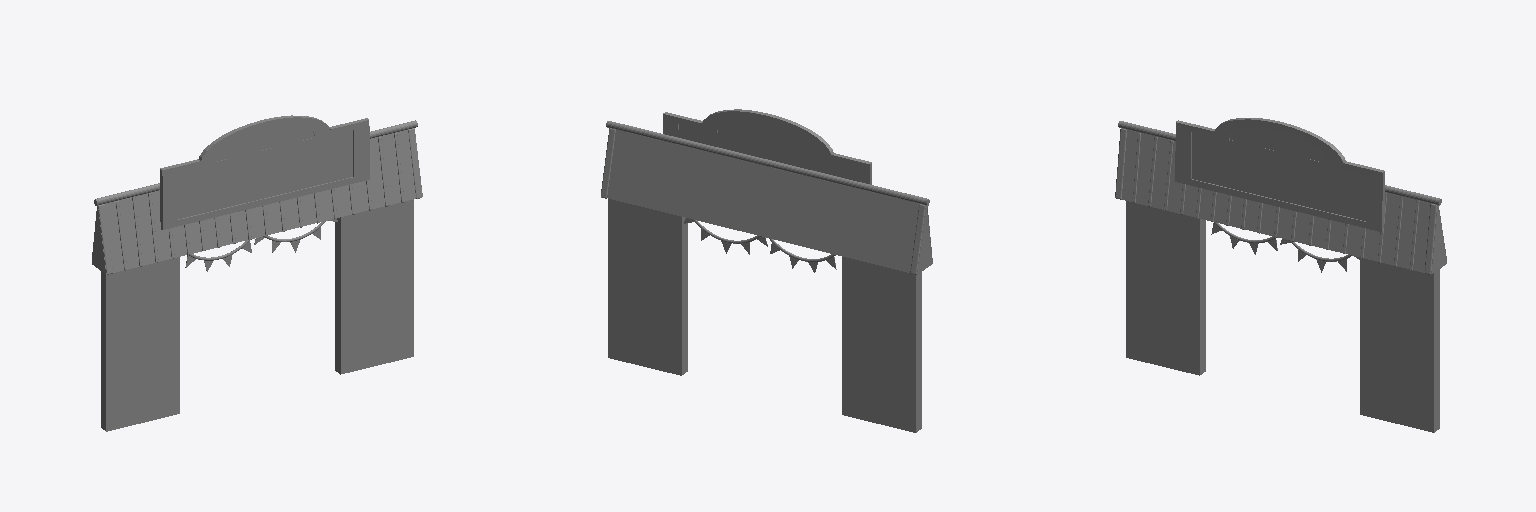
Rendered from entrada.obj.
The picture shows the model from 3 angles: view 1: azimuth 30°, elevation 25°; view 2: azimuth 150°, elevation 25°; view 3: azimuth 330°, elevation 25°; orthographic projection.
Visible parts, largest first — view 1: Box002, Box001, Prism001, Box003, Circle001, Cylinder002; view 2: Prism001, Box002, Box001, Box003, Circle001, Cylinder002; view 3: Box002, Box001, Prism001, Box003, Circle001, Cylinder002.
Boxes of the visible parts, x1=… form: Box002: x1=335, y1=199, x2=413, y2=374; Box001: x1=101, y1=257, x2=179, y2=431; Prism001: x1=92, y1=129, x2=422, y2=274; Box003: x1=178, y1=125, x2=352, y2=218; Circle001: x1=160, y1=115, x2=369, y2=229; Cylinder002: x1=94, y1=120, x2=417, y2=205; Prism001: x1=607, y1=130, x2=932, y2=274; Box002: x1=608, y1=199, x2=687, y2=375; Box001: x1=842, y1=257, x2=921, y2=432; Box003: x1=679, y1=119, x2=853, y2=180; Circle001: x1=663, y1=109, x2=871, y2=184; Cylinder002: x1=606, y1=121, x2=929, y2=205; Box002: x1=1360, y1=258, x2=1439, y2=432; Box001: x1=1126, y1=201, x2=1205, y2=375; Prism001: x1=1121, y1=128, x2=1446, y2=274; Box003: x1=1192, y1=127, x2=1366, y2=221; Circle001: x1=1175, y1=118, x2=1384, y2=231; Cylinder002: x1=1118, y1=121, x2=1441, y2=205.
Bounding box in the file's own units: 168 × 137 × 14.72.